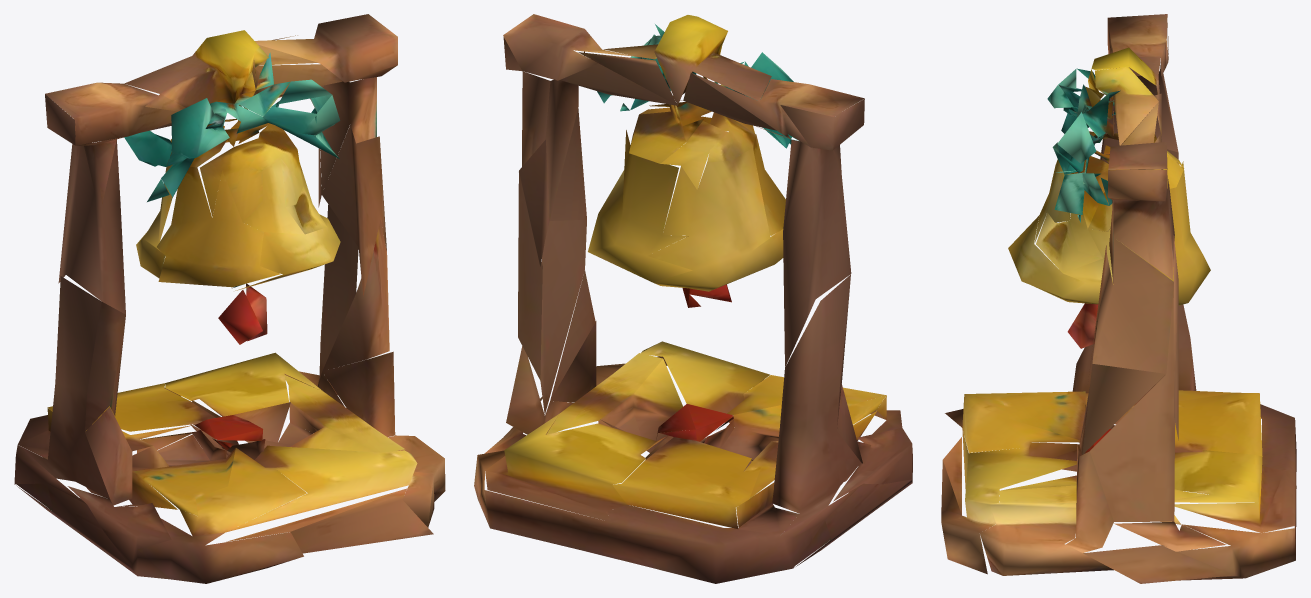
The model's file is suzu_bell.glb.
3 views of the same model, side by side, from view 1: azimuth 30°, elevation 25°; view 2: azimuth 150°, elevation 25°; view 3: azimuth 270°, elevation 25° (orthographic). The views are drawn at different scales.
Visible parts, largest first — view 1: bell; view 2: bell; view 3: bell.
Boxes of the visible parts, box(x1,y1,x2,y2) form: bell: box(14, 14, 445, 583); bell: box(474, 14, 912, 583); bell: box(941, 14, 1296, 583).
Bounding box in the file's own units: 0.3107 × 0.4229 × 0.299.
Materials: 1 (1 with a texture image).
